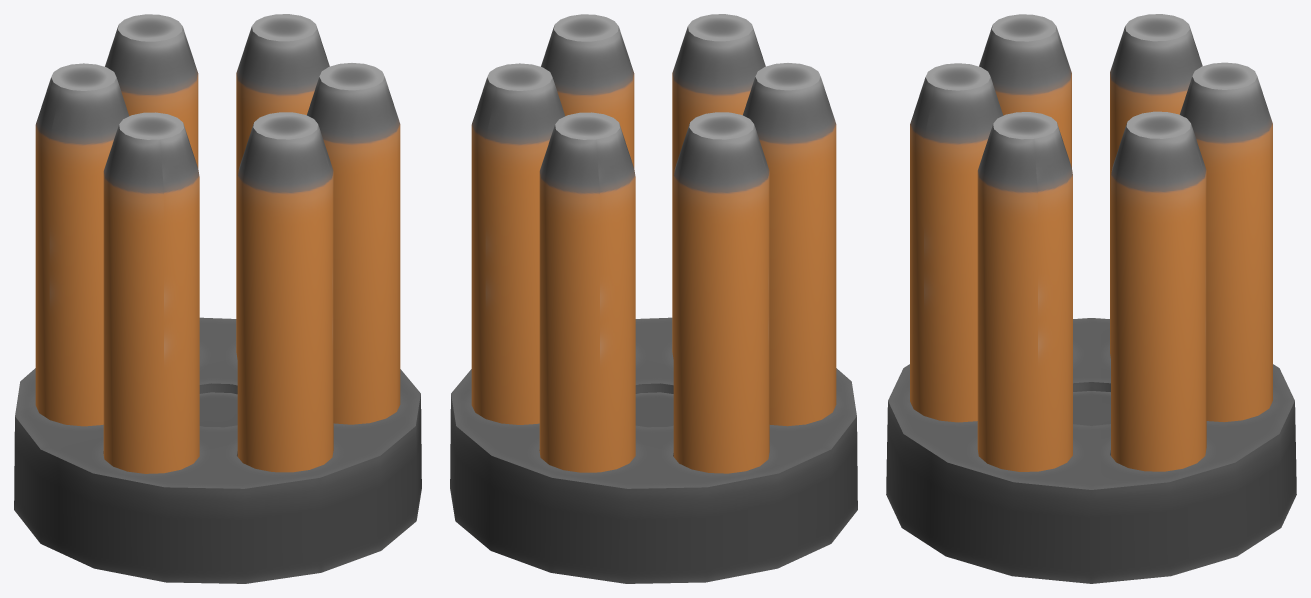
Rendered from 357BulletCylinders.fbx.
3 views of the same model, side by side, from view 1: azimuth 30°, elevation 25°; view 2: azimuth 150°, elevation 25°; view 3: azimuth 270°, elevation 25° (orthographic).
Parts seen in each view (by area): view 1: 357BulletCylinders, 357Bullet.004, 357Bullet.003, 357Bullet.005, 357Bullet.002, 357Bullet.001, 357Bullet.007; view 2: 357BulletCylinders, 357Bullet.005, 357Bullet.007, 357Bullet.001, 357Bullet.004, 357Bullet.003, 357Bullet.002; view 3: 357BulletCylinders, 357Bullet.001, 357Bullet.002, 357Bullet.003, 357Bullet.007, 357Bullet.005, 357Bullet.004.
Boxes of the visible parts, left/top/right/bottom form: 357BulletCylinders: left=14, top=317, right=421, bottom=583; 357Bullet.004: left=103, top=112, right=199, bottom=473; 357Bullet.003: left=237, top=112, right=333, bottom=472; 357Bullet.005: left=35, top=63, right=128, bottom=426; 357Bullet.002: left=307, top=63, right=400, bottom=424; 357Bullet.001: left=236, top=14, right=329, bottom=359; 357Bullet.007: left=105, top=14, right=198, bottom=167; 357BulletCylinders: left=450, top=317, right=857, bottom=583; 357Bullet.005: left=673, top=112, right=769, bottom=473; 357Bullet.007: left=539, top=112, right=635, bottom=472; 357Bullet.001: left=471, top=63, right=564, bottom=424; 357Bullet.004: left=743, top=63, right=836, bottom=426; 357Bullet.003: left=672, top=14, right=765, bottom=358; 357Bullet.002: left=541, top=14, right=634, bottom=167; 357BulletCylinders: left=886, top=318, right=1296, bottom=583; 357Bullet.001: left=1111, top=111, right=1206, bottom=471; 357Bullet.002: left=977, top=112, right=1072, bottom=471; 357Bullet.003: left=910, top=63, right=1003, bottom=422; 357Bullet.007: left=1180, top=62, right=1272, bottom=422; 357Bullet.005: left=1110, top=14, right=1202, bottom=357; 357Bullet.004: left=979, top=14, right=1071, bottom=167.
Bounding box in the file's own units: 0.0513 × 0.0585 × 0.0517.
